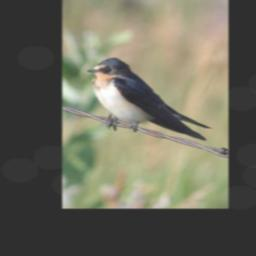Swallow: (85, 55, 212, 145)
